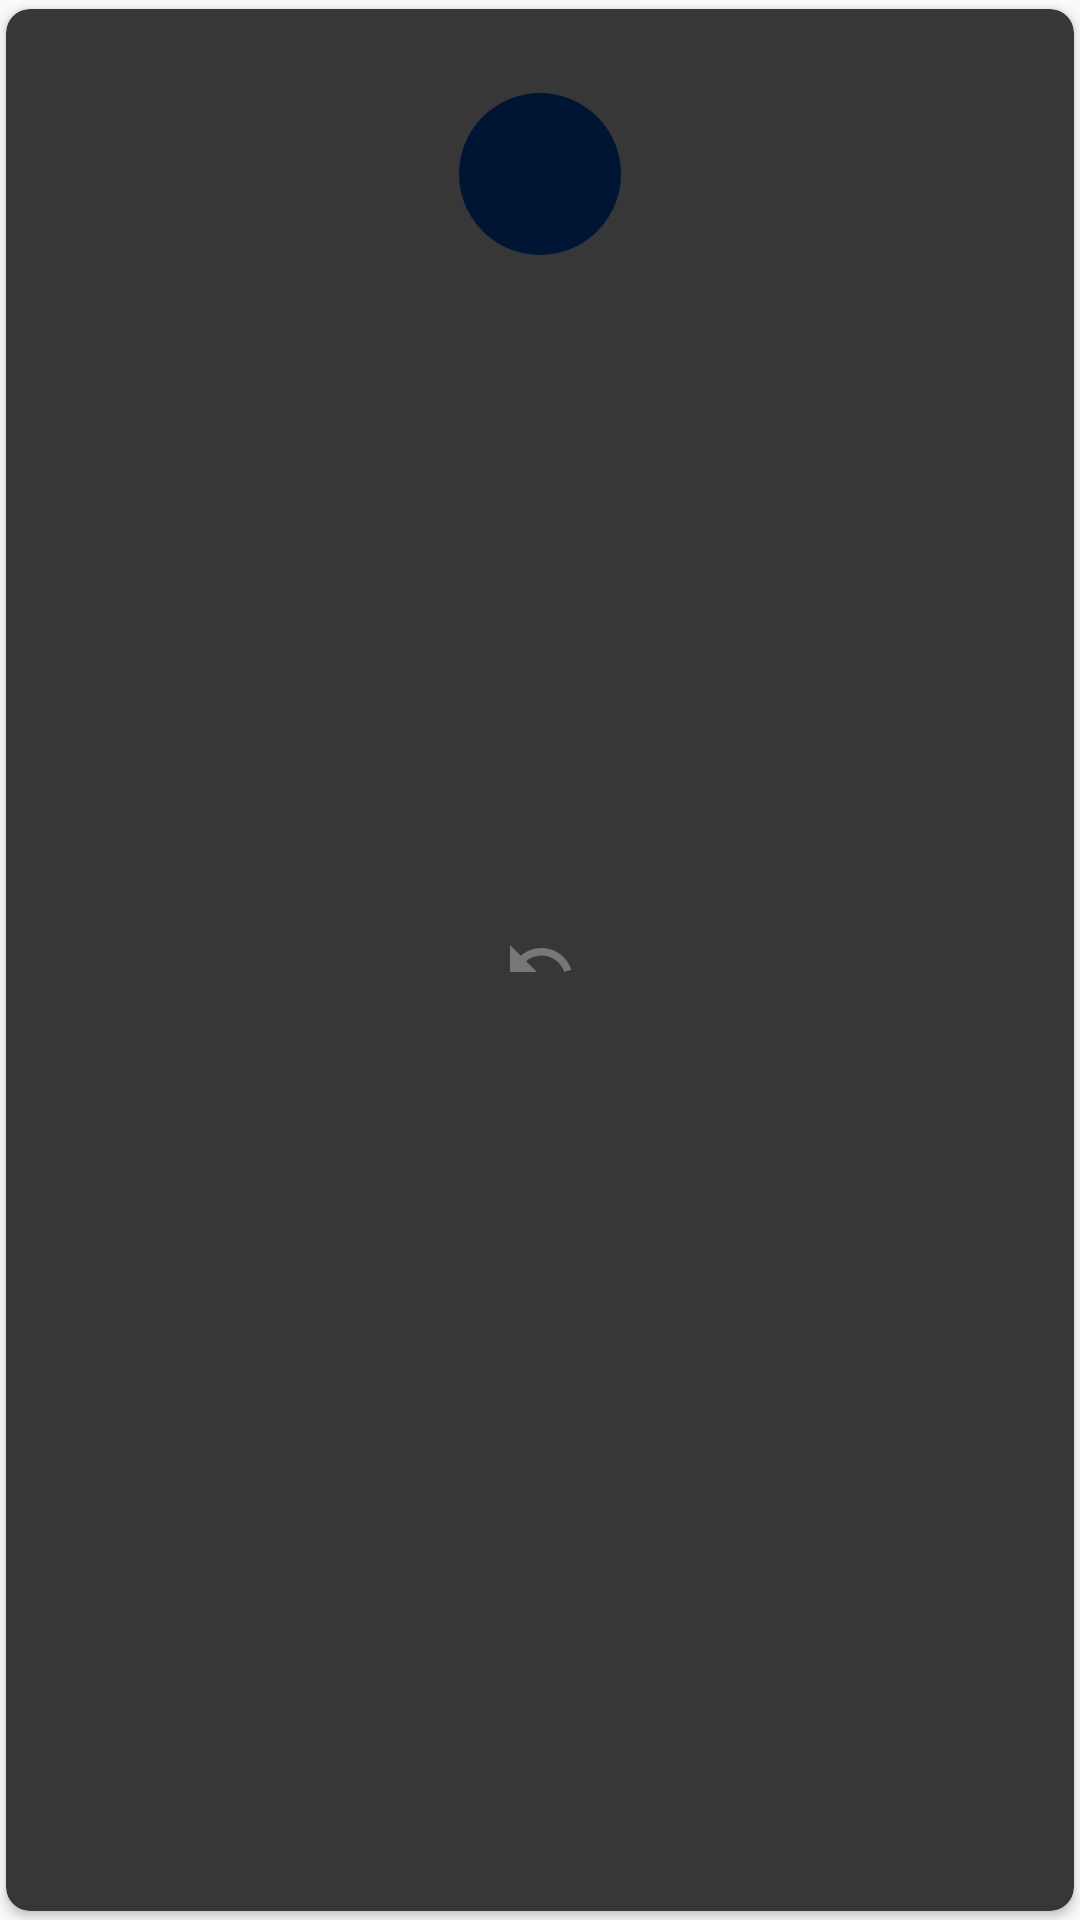

Icon bounding boxes for this 1080*1920 phone screenshot, format bbox=(x1, y1, x2, y2):
undo: bbox=(510, 945, 571, 972)
